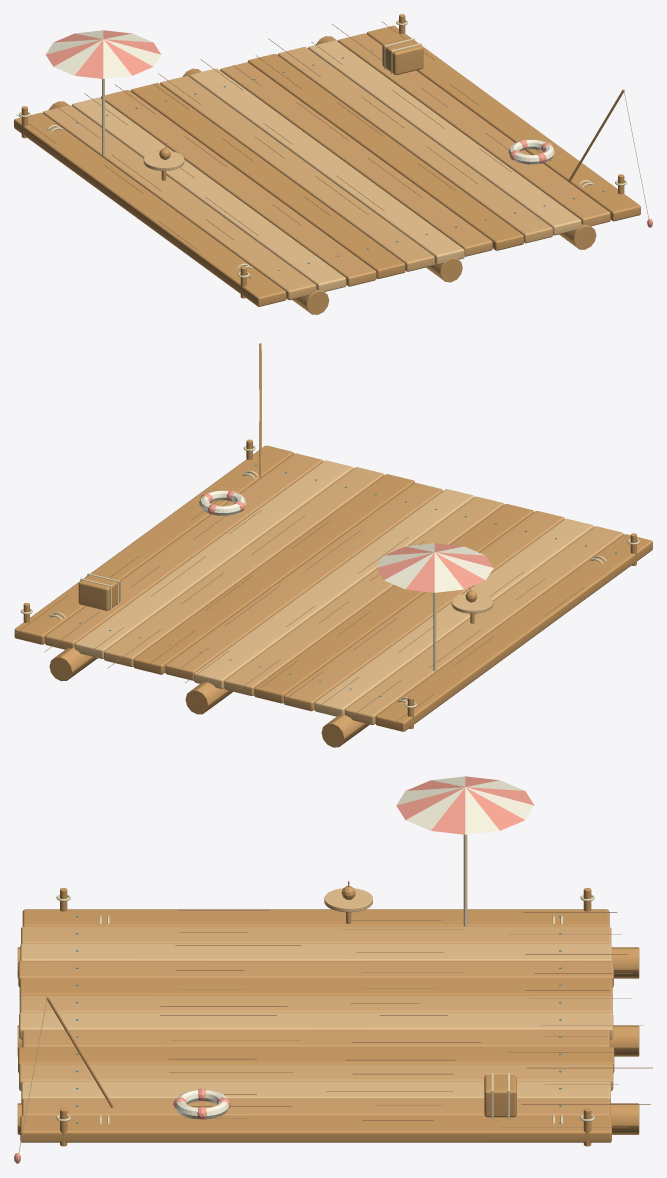
The model's file is sunny-raft.glb.
3 renders of one model, top to bottom at view 1: azimuth 30°, elevation 25°; view 2: azimuth 150°, elevation 25°; view 3: azimuth 270°, elevation 25°, orthographic. The views are drawn at different scales.
Visible parts, largest first — view 1: 圆角甲板0, 圆角甲板2, 圆角甲板1, 圆角甲板3, 苏打条纹阳伞.001, 苏打条纹阳伞, 木材纤维, 扎筏麻绳; view 2: 圆角甲板0, 圆角甲板2, 圆角甲板1, 圆角甲板3, 苏打条纹阳伞.001, 苏打条纹阳伞, 木材纤维, 扎筏麻绳; view 3: 圆角甲板0, 圆角甲板1, 圆角甲板2, 圆角甲板3, 苏打条纹阳伞.001, 木材纤维, 苏打条纹阳伞, 扎筏麻绳.
Boxes of the visible parts, <box> form: 圆角甲板0: <box>14,14,640,314</box>; 圆角甲板2: <box>72,40,581,291</box>; 圆角甲板1: <box>42,47,552,300</box>; 圆角甲板3: <box>100,33,610,286</box>; 苏打条纹阳伞.001: <box>46,30,554,164</box>; 苏打条纹阳伞: <box>46,30,652,227</box>; 木材纤维: <box>16,21,551,249</box>; 扎筏麻绳: <box>19,20,648,277</box>; 圆角甲板0: <box>14,343,652,747</box>; 圆角甲板2: <box>75,460,593,716</box>; 圆角甲板1: <box>104,467,623,724</box>; 圆角甲板3: <box>45,453,564,711</box>; 苏打条纹阳伞.001: <box>199,490,493,592</box>; 苏打条纹阳伞: <box>200,490,493,592</box>; 木材纤维: <box>14,501,583,723</box>; 扎筏麻绳: <box>20,421,639,707</box>; 圆角甲板0: <box>17,886,639,1146</box>; 圆角甲板1: <box>19,926,613,1090</box>; 圆角甲板2: <box>19,888,613,1104</box>; 圆角甲板3: <box>18,961,613,1115</box>; 苏打条纹阳伞.001: <box>175,776,534,1119</box>; 木材纤维: <box>160,910,652,1127</box>; 苏打条纹阳伞: <box>14,776,534,1163</box>; 扎筏麻绳: <box>18,834,594,1152</box>.
Size of the model in its own units: 20.97 by 7.08 by 23.54.
